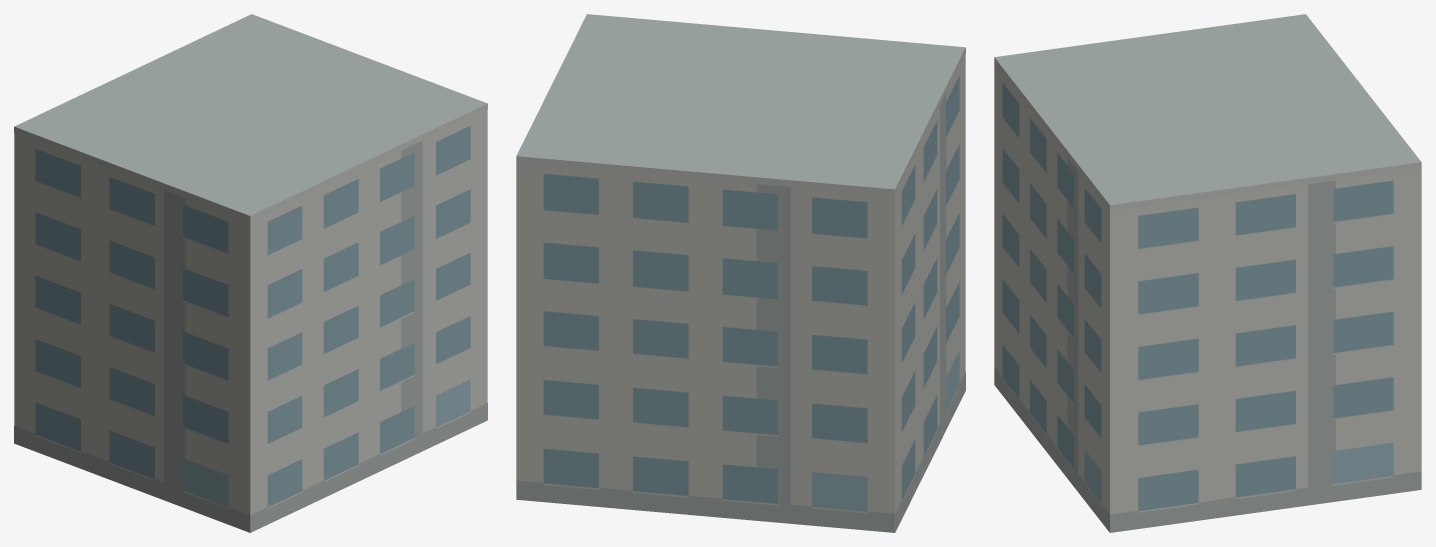
Rendered from survey-upis-32997439.glb.
The picture shows the model from 3 angles, left to right: view 1: azimuth 30°, elevation 25°; view 2: azimuth 150°, elevation 25°; view 3: azimuth 270°, elevation 25°; orthographic projection. The views are drawn at different scales.
Parts seen in each view (by area): view 1: survey-upis-32997439.tmp; view 2: survey-upis-32997439.tmp; view 3: survey-upis-32997439.tmp.
Part boxes in pixels (box(x1,y1,x2,y2)): survey-upis-32997439.tmp: box(14, 14, 487, 532); survey-upis-32997439.tmp: box(516, 14, 965, 532); survey-upis-32997439.tmp: box(994, 14, 1421, 532).
Size of the model in its own units: 15.59 by 12.45 by 14.72.
